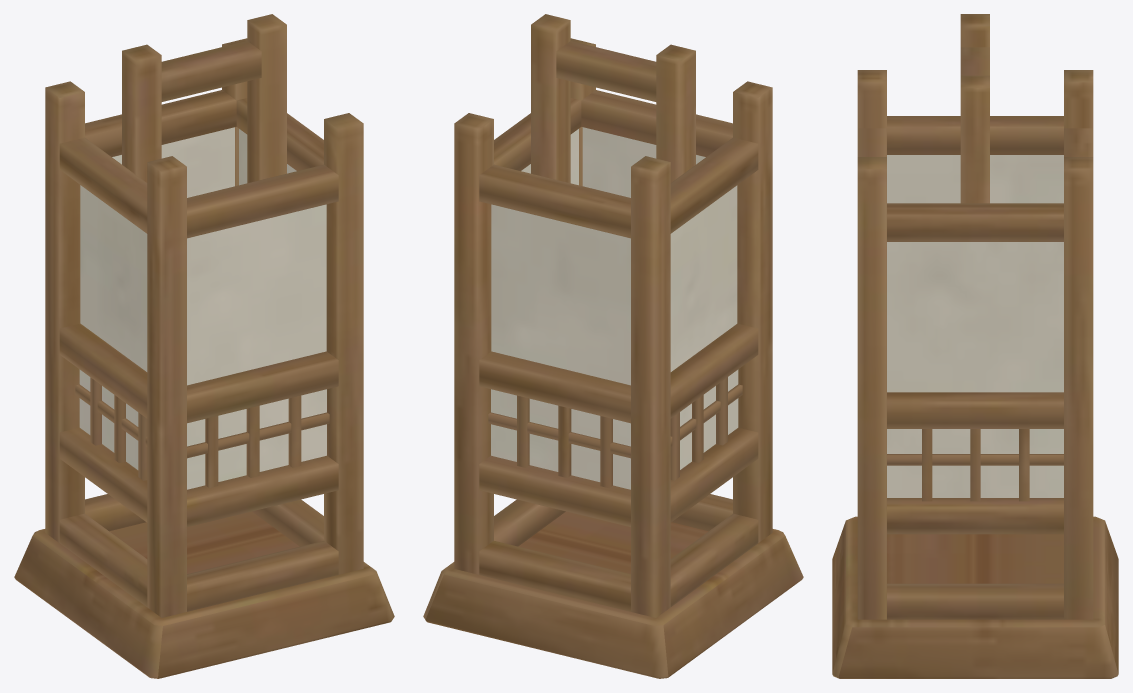
3 renders of one model, left to right at view 1: azimuth 30°, elevation 25°; view 2: azimuth 150°, elevation 25°; view 3: azimuth 270°, elevation 25°, orthographic.
Bounding box in the file's own units: 4.76 × 10.42 × 4.76.
Materials: 2 (2 with a texture image).
